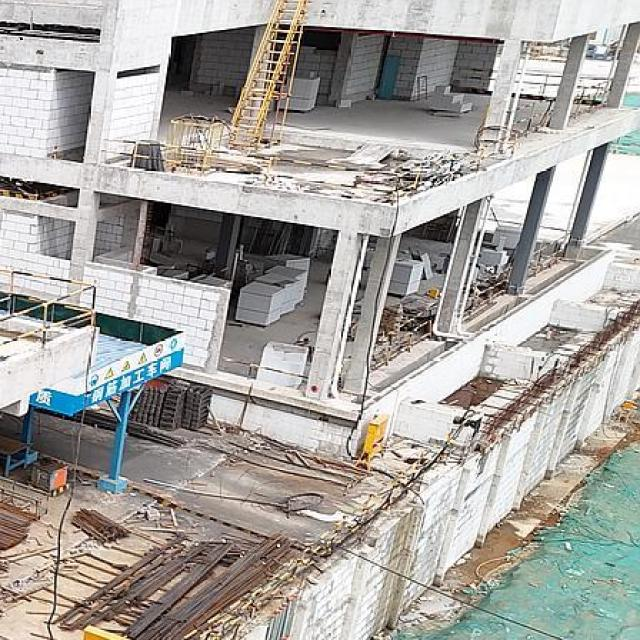edge_guardrail: (174, 443, 459, 640), (101, 136, 515, 206), (480, 296, 640, 441), (371, 310, 430, 371), (223, 356, 308, 379), (512, 97, 555, 132), (530, 234, 566, 273), (516, 71, 563, 95), (578, 77, 613, 99), (476, 279, 505, 305), (486, 217, 521, 226), (540, 225, 569, 232)
